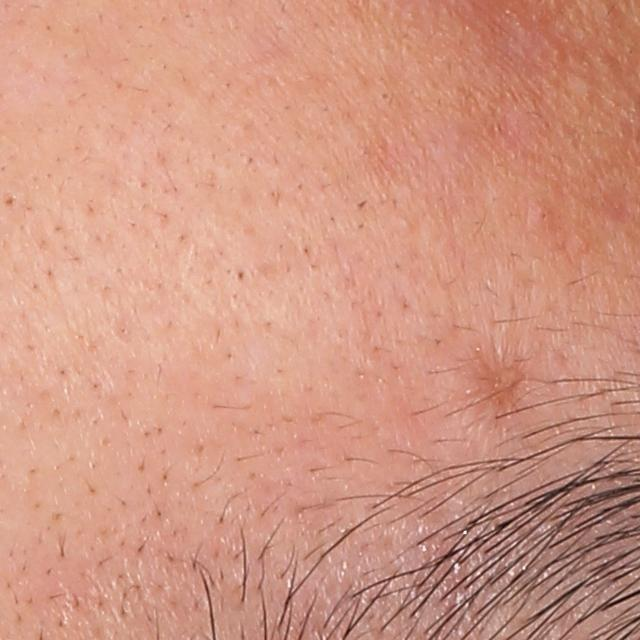comedo: (533, 204, 555, 231), (0, 191, 18, 212)
